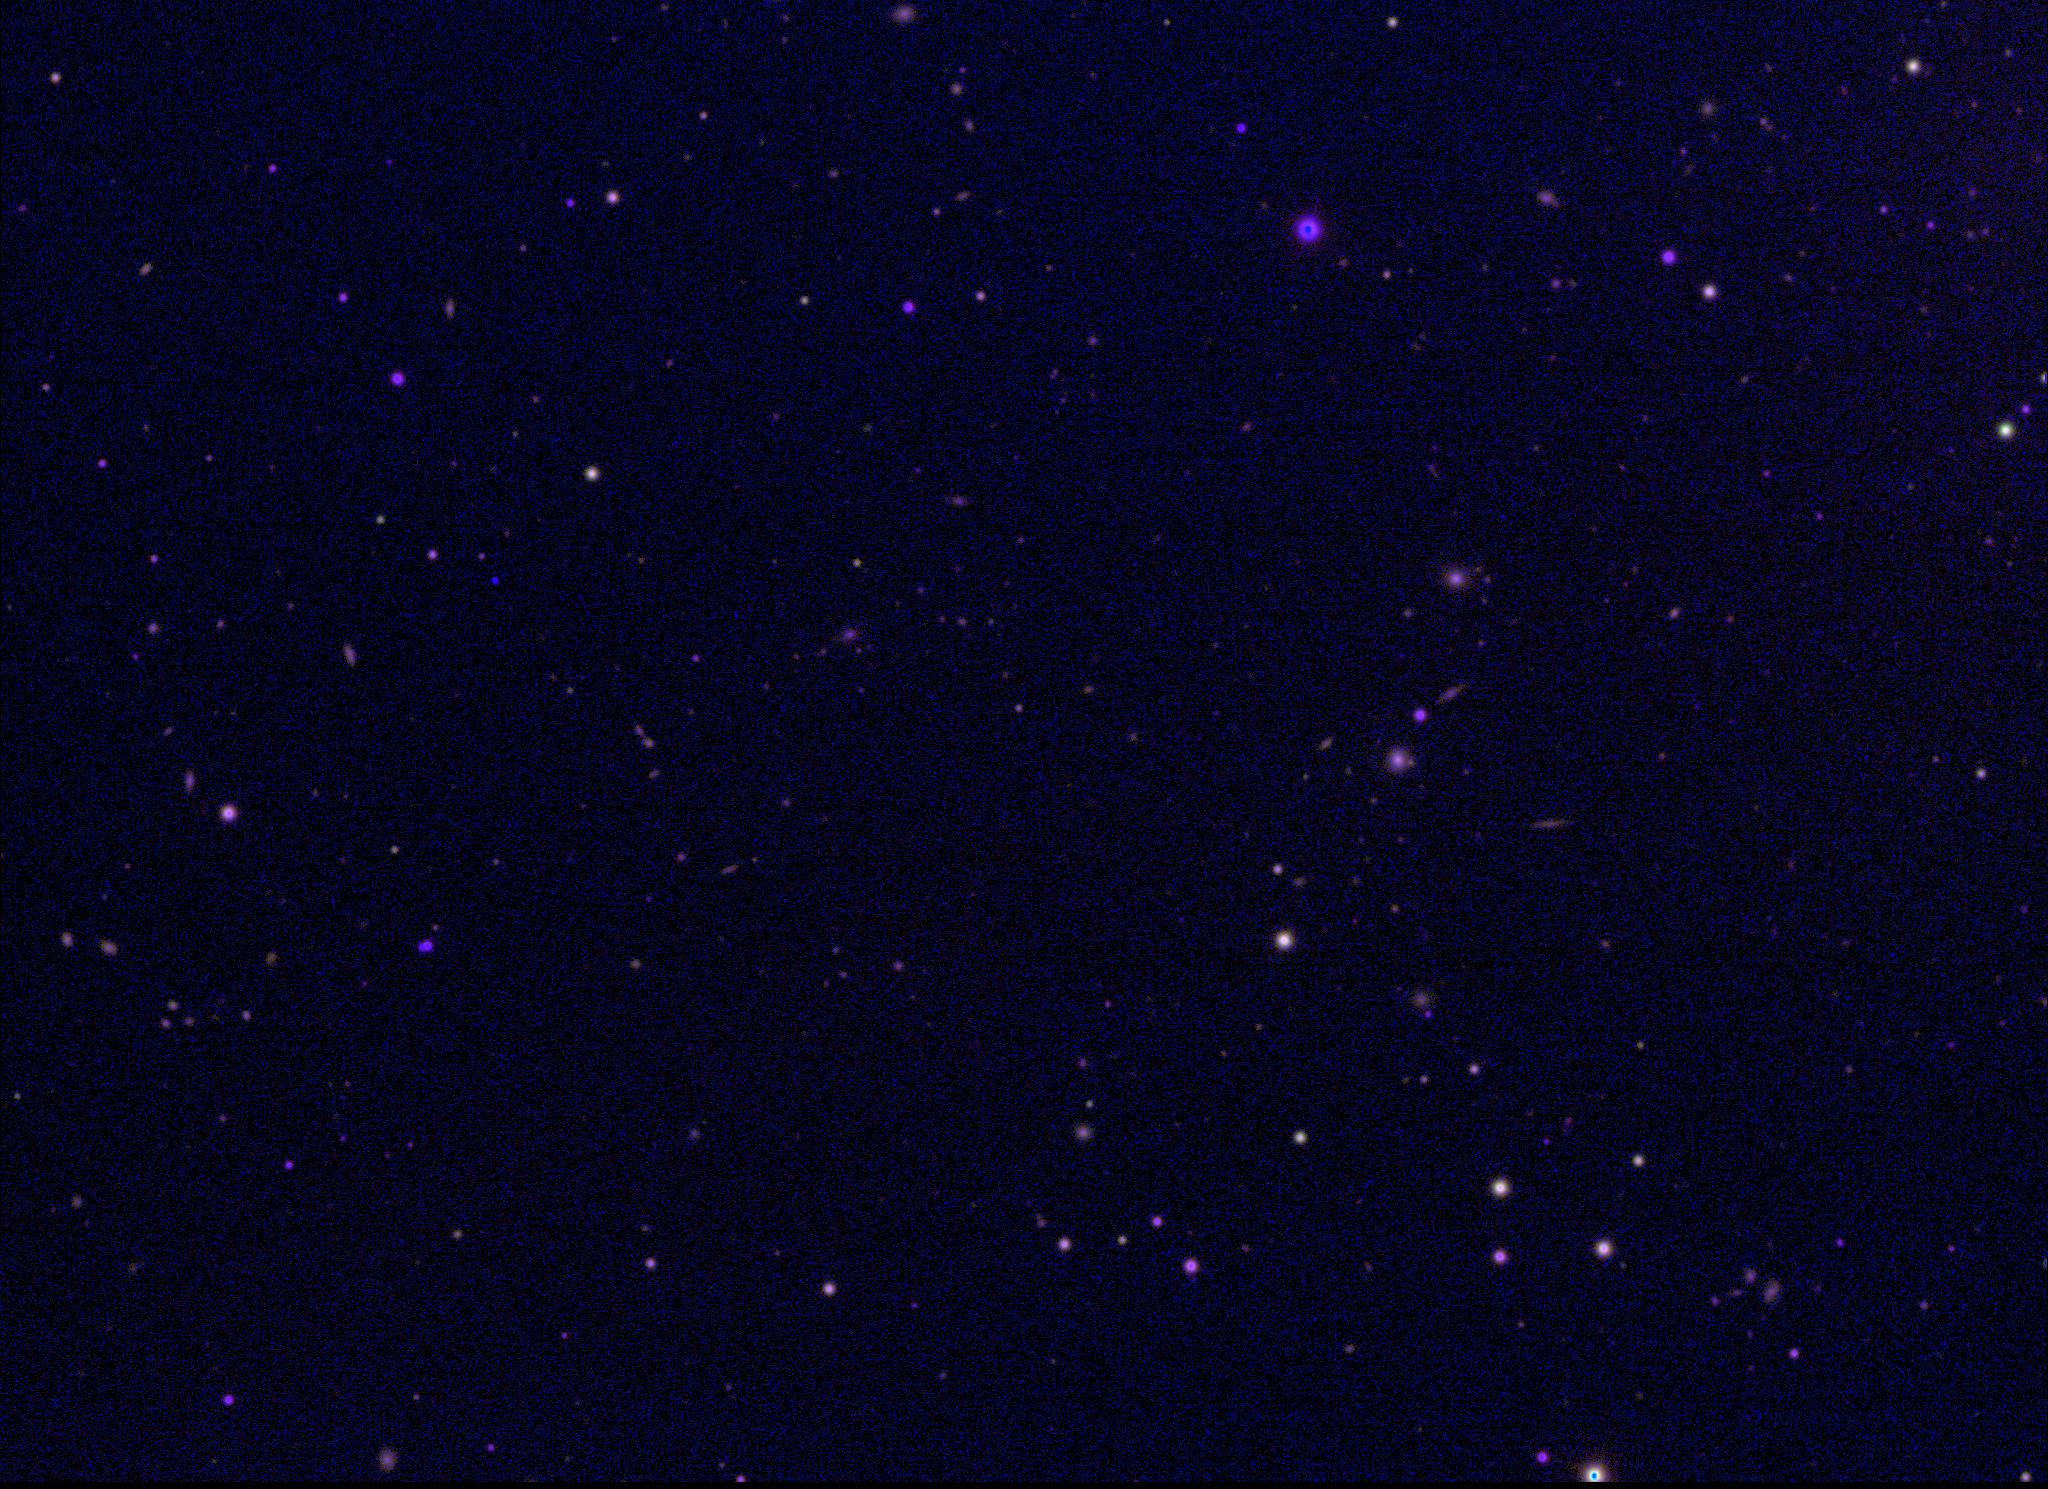L: (488, 573, 502, 587)
